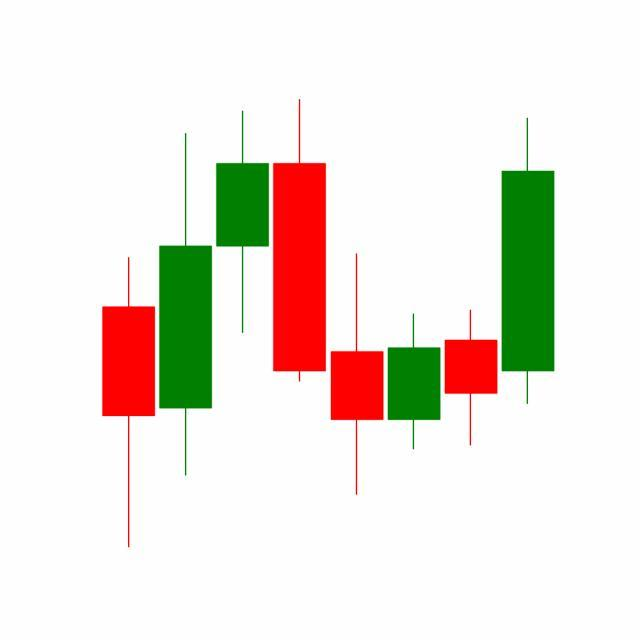Hikkake Pattern: (214, 100, 501, 500)
